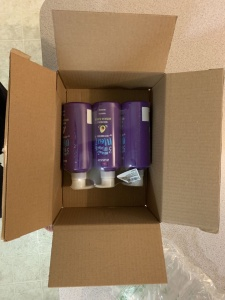innerbox: (56, 71, 162, 226)
outerbox: (7, 10, 219, 286)
product: (60, 102, 151, 188)
